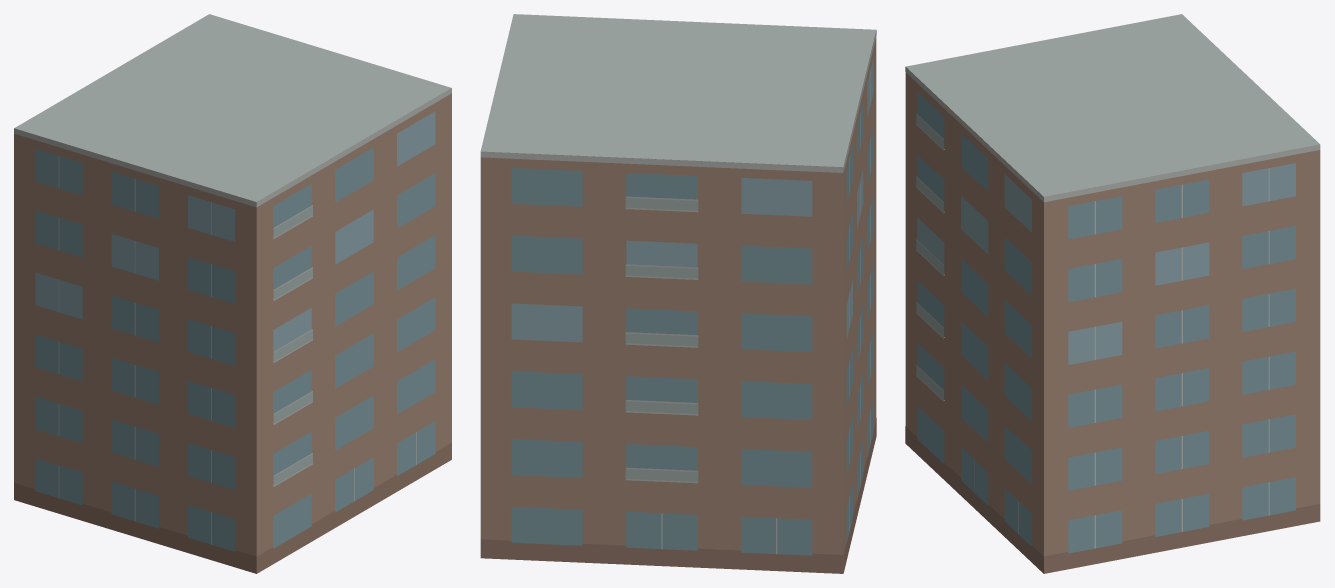
File: survey-upis-32741454.glb
The picture shows the model from 3 angles, left to right: view 1: azimuth 30°, elevation 25°; view 2: azimuth 150°, elevation 25°; view 3: azimuth 270°, elevation 25°; orthographic projection. The views are drawn at different scales.
Visible parts, largest first — view 1: survey-upis-32741454.tmp; view 2: survey-upis-32741454.tmp; view 3: survey-upis-32741454.tmp.
Boxes of the visible parts, box(x1,y1,x2,y2) form: survey-upis-32741454.tmp: box(14, 14, 451, 573); survey-upis-32741454.tmp: box(480, 14, 876, 573); survey-upis-32741454.tmp: box(905, 14, 1320, 573).
Size of the model in its own units: 17.65 by 16.95 by 16.92.
